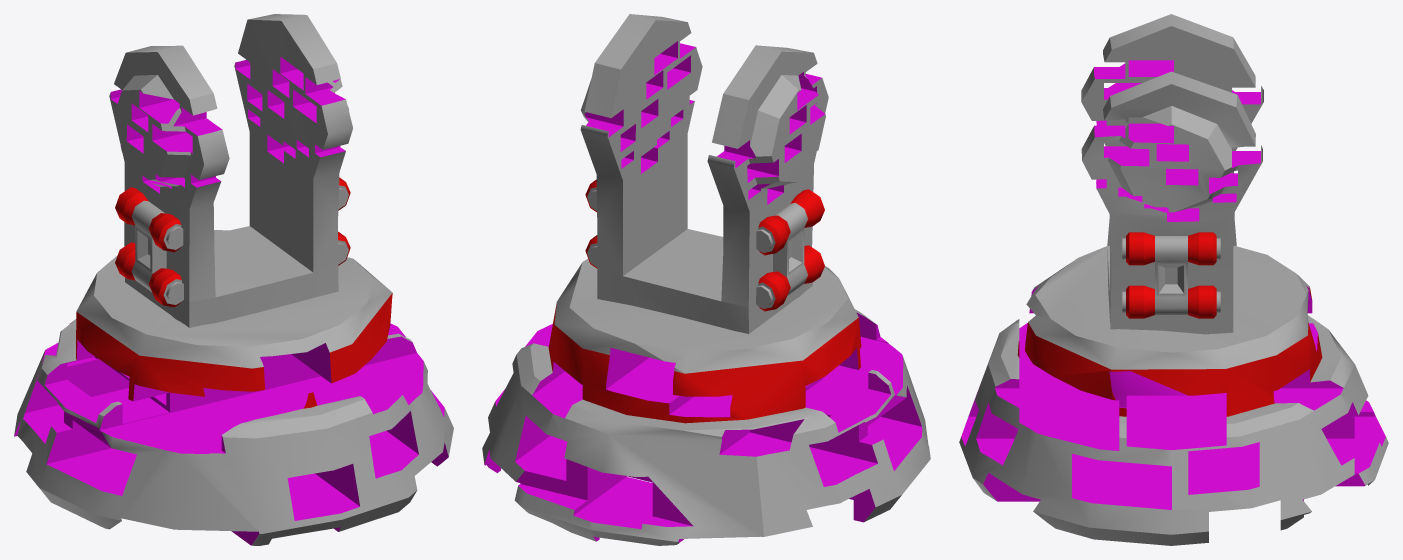
The model's file is Enemy_TurretSingle_Body_Glitch.fbx.
3 views of the same model, side by side, from view 1: azimuth 30°, elevation 25°; view 2: azimuth 150°, elevation 25°; view 3: azimuth 270°, elevation 25° (orthographic). The views are drawn at different scales.
Parts seen in each view (by area): view 1: Enemy_Turret_Single_Body5; view 2: Enemy_Turret_Single_Body5; view 3: Enemy_Turret_Single_Body5.
Part boxes in pixels (x1=…): Enemy_Turret_Single_Body5: x1=14, y1=14, x2=453, y2=545; Enemy_Turret_Single_Body5: x1=482, y1=14, x2=930, y2=545; Enemy_Turret_Single_Body5: x1=959, y1=14, x2=1388, y2=545.
Bounding box in the file's own units: 2.07 × 2.17 × 2.05.
